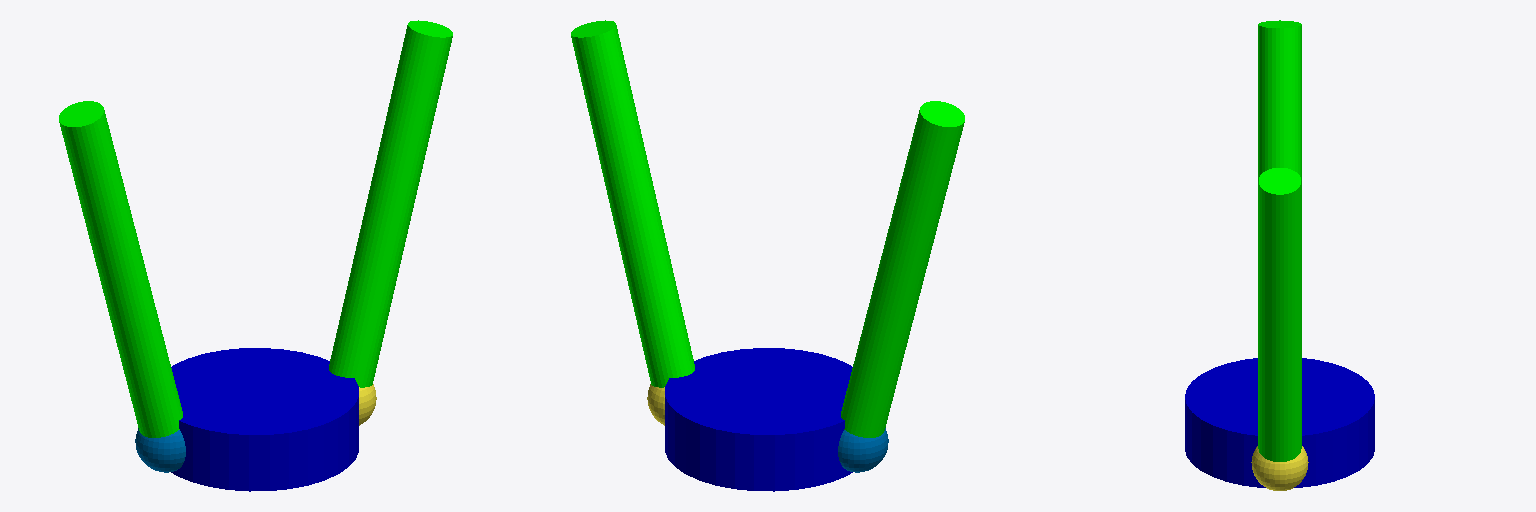
The robot description file, URDF, robot "gripper_2f_1j":
<?xml version='1.0' encoding='UTF-8'?>
<robot name="gripper_2f_1j">
  <link name="palm">
    <inertial>
      <origin xyz="0.0 0.0 0.0" rpy="0.0 -0.0 0.0"/>
      <mass value="1.0"/>
      <inertia ixx="1.0" ixy="0.0" ixz="0.0" iyy="1.0" iyz="0.0" izz="1.0"/>
    </inertial>
    <visual>
      <geometry>
        <cylinder radius="0.05" length="0.03"/>
      </geometry>
      <material name="blue"/>
      <origin xyz="0.0 0.0 0.0" rpy="0.0 -0.0 0.0"/>
    </visual>
    <collision>
      <geometry>
        <cylinder radius="0.05" length="0.03"/>
      </geometry>
      <origin xyz="0.0 0.0 0.0" rpy="0.0 0.0 0.0"/>
    </collision>
  </link>
  <link name="f11">
    <inertial>
      <origin xyz="0.0 0.0 0.0" rpy="0.0 -0.0 0.0"/>
      <mass value="1.0"/>
      <inertia ixx="1.0" ixy="0.0" ixz="0.0" iyy="1.0" iyz="0.0" izz="1.0"/>
    </inertial>
    <visual>
      <geometry>
        <cylinder radius="0.011308143614258085" length="0.19141317398020213"/>
      </geometry>
      <material name="green"/>
      <origin xyz="0.0 0.0 0.09570658699010107" rpy="0.0 -0.0 0.0"/>
    </visual>
    <collision>
      <geometry>
        <cylinder radius="0.011308143614258085" length="0.19141317398020213"/>
      </geometry>
      <origin xyz="0.0 0.0 0.05" rpy="0.0 0.0 0.0"/>
    </collision>
  </link>
  <link name="f21">
    <inertial>
      <origin xyz="0.0 0.0 0.0" rpy="0.0 -0.0 0.0"/>
      <mass value="1.0"/>
      <inertia ixx="1.0" ixy="0.0" ixz="0.0" iyy="1.0" iyz="0.0" izz="1.0"/>
    </inertial>
    <visual>
      <geometry>
        <cylinder radius="0.011308143614258085" length="0.19141317398020213"/>
      </geometry>
      <material name="green"/>
      <origin xyz="0.0 0.0 0.09570658699010107" rpy="0.0 -0.0 0.0"/>
    </visual>
    <collision>
      <geometry>
        <cylinder radius="0.011308143614258085" length="0.19141317398020213"/>
      </geometry>
      <origin xyz="0.0 0.0 0.05" rpy="0.0 0.0 0.0"/>
    </collision>
  </link>
  <link name="f11_base">
    <inertial>
      <origin xyz="0.0 0.0 0.0" rpy="0.0 -0.0 0.0"/>
      <mass value="1.0"/>
      <inertia ixx="1.0" ixy="0.0" ixz="0.0" iyy="1.0" iyz="0.0" izz="1.0"/>
    </inertial>
    <visual>
      <geometry>
        <sphere radius="0.015"/>
      </geometry>
      <origin xyz="0.0 0.0 0.0" rpy="0.0 -0.0 0.0"/>
    </visual>
  </link>
  <link name="f21_base">
    <inertial>
      <origin xyz="0.0 0.0 0.0" rpy="0.0 -0.0 0.0"/>
      <mass value="1.0"/>
      <inertia ixx="1.0" ixy="0.0" ixz="0.0" iyy="1.0" iyz="0.0" izz="1.0"/>
    </inertial>
    <visual>
      <geometry>
        <sphere radius="0.015"/>
      </geometry>
      <origin xyz="0.0 0.0 0.0" rpy="0.0 -0.0 0.0"/>
    </visual>
  </link>
  <joint name="f11_joint" type="revolute">
    <dynamics damping="100.0" friction="1.0"/>
    <limit effort="30.0" velocity="2.0" lower="-0.6" upper="0.25"/>
    <parent link="f11_base"/>
    <child link="f11"/>
    <axis xyz="0. 1. 0."/>
    <origin xyz="0.0 0.0 0.0" rpy="0.0 0.25 0.0"/>
  </joint>
  <joint name="f21_joint" type="revolute">
    <dynamics damping="100.0" friction="1.0"/>
    <limit effort="30.0" velocity="2.0" lower="-0.6" upper="0.25"/>
    <parent link="f21_base"/>
    <child link="f21"/>
    <axis xyz=" 0. -1.  0."/>
    <origin xyz="0.0 0.0 0.0" rpy="0.0 -0.25 0.0"/>
  </joint>
  <joint name="f11_base_joint" type="fixed">
    <parent link="palm"/>
    <child link="f11_base"/>
    <axis xyz="1. 0. 0."/>
    <origin xyz="0.05 0.0 0.0" rpy="0.0 0.0 0.0"/>
  </joint>
  <joint name="f21_base_joint" type="fixed">
    <parent link="palm"/>
    <child link="f21_base"/>
    <axis xyz="1. 0. 0."/>
    <origin xyz="-0.05 -0.0 0.0" rpy="0.0 0.0 0.0"/>
  </joint>
  <material name="blue">
    <color rgba="0.  0.  0.8 1. "/>
  </material>
  <material name="green">
    <color rgba="0. 1. 0. 1."/>
  </material>
</robot>

--- What the picture shows (computed from the rendered views, not written in the file) ---
3 views of the same robot in one strip: view 1: azimuth 30°, elevation 25°; view 2: azimuth 150°, elevation 25°; view 3: azimuth 270°, elevation 25° (orthographic).
Model gripper_2f_1j with 5 links and 4 joints (2 revolute, 2 fixed), rooted at palm, posed all joints at 0.
Visible links, largest first — view 1: palm, f11, f21, f21_base, f11_base; view 2: palm, f11, f21, f21_base, f11_base; view 3: palm, f11, f21, f11_base.
Boxes of the visible links, box(x1,y1,x2,y2) form: palm: box(171, 348, 358, 491); f11: box(329, 20, 452, 387); f21: box(59, 101, 182, 437); f21_base: box(135, 428, 185, 472); f11_base: box(359, 384, 376, 425); palm: box(665, 348, 852, 491); f11: box(571, 20, 694, 387); f21: box(841, 101, 964, 437); f21_base: box(838, 428, 888, 472); f11_base: box(647, 384, 664, 425); palm: box(1185, 358, 1374, 487); f11: box(1258, 168, 1301, 461); f21: box(1258, 20, 1301, 180); f11_base: box(1251, 446, 1308, 490).
Size in the robot's own frame: 0.2166 by 0.1 by 0.2033 metres.
Geometry: primitives only (box / cylinder / sphere), no mesh files.